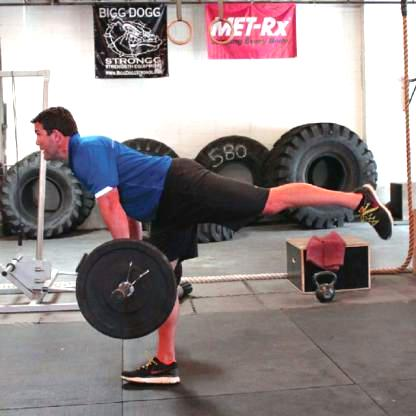Barbell: (109, 288, 127, 306)
